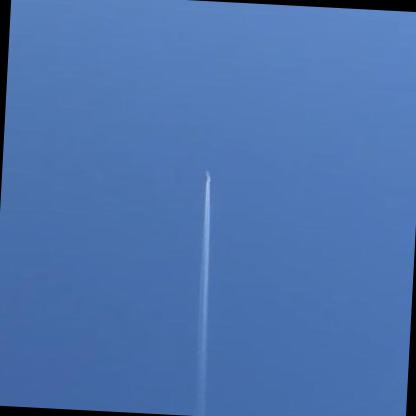plane: (200, 165, 215, 181)
